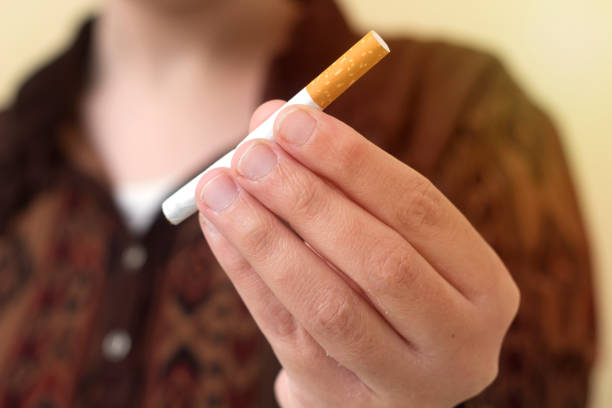cigarette: (161, 27, 392, 226)
